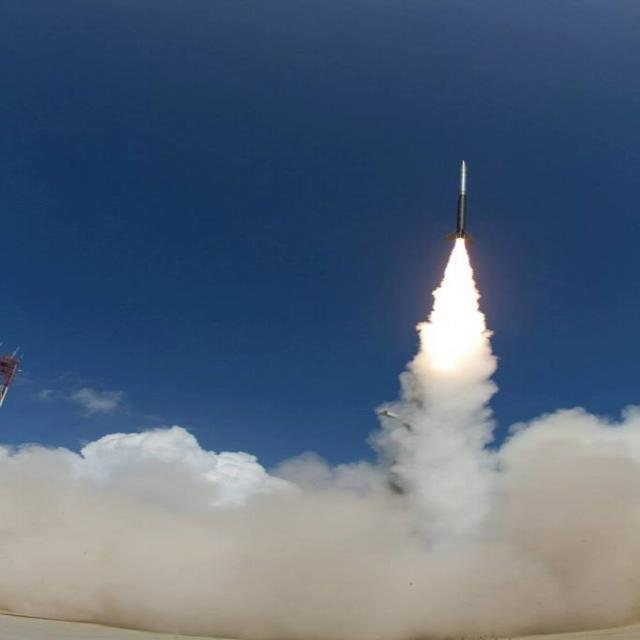missile: (443, 158, 470, 248)
